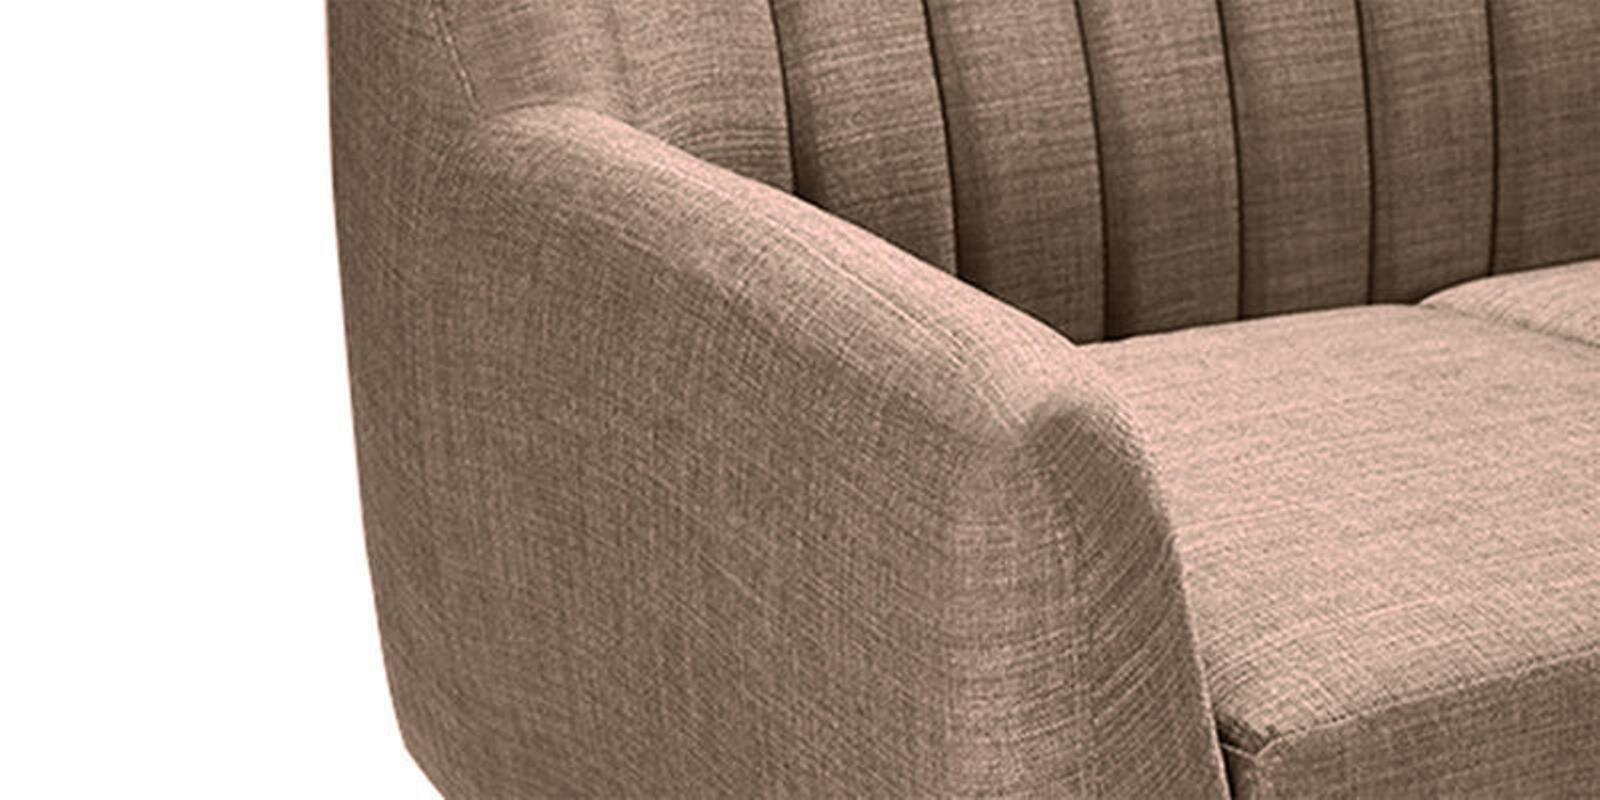Managua Three Seater Sofa in Coyote Colour by CasaCraft: (332, 1, 1599, 800)
